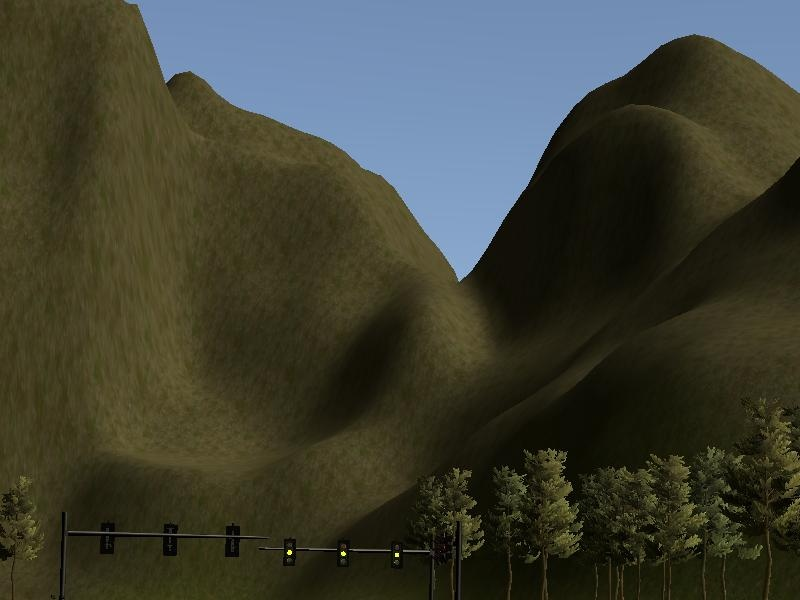yellow: (282, 538, 297, 566), (337, 540, 351, 567), (391, 541, 404, 568)
